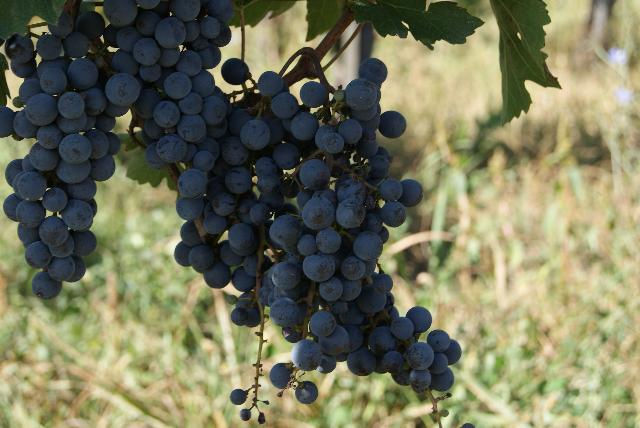grapes: (265, 59, 450, 401), (186, 71, 336, 302), (4, 12, 120, 299), (62, 0, 234, 170)
